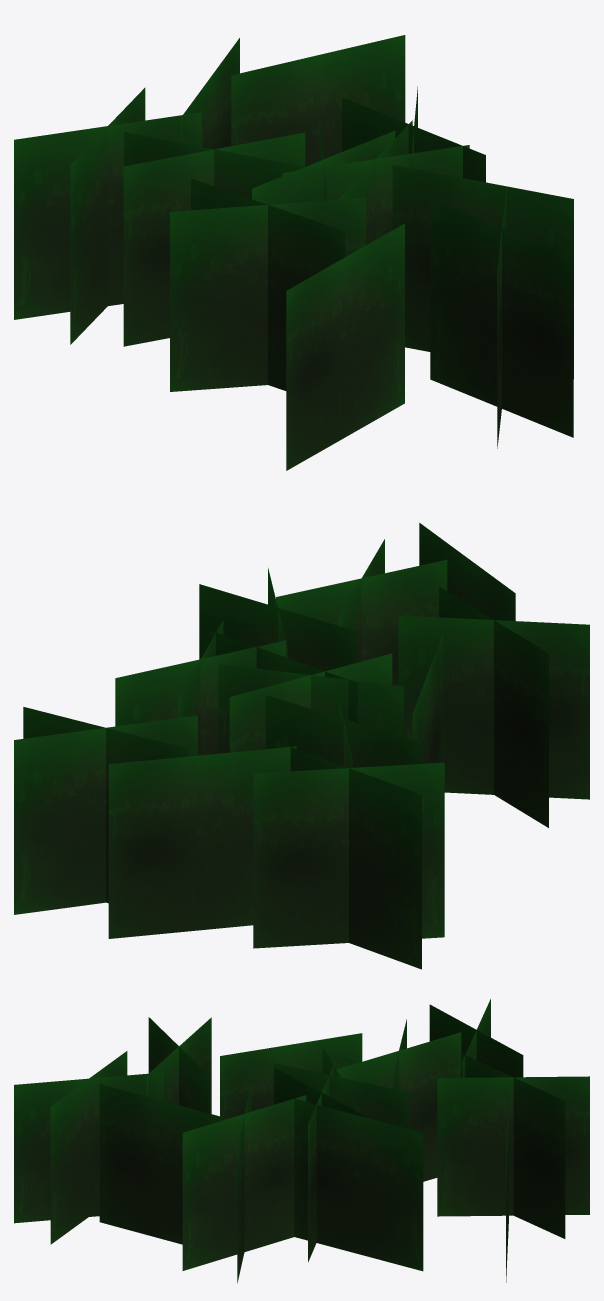
The model's file is reeds.glb.
3 views of the same model, one above another, from view 1: azimuth 30°, elevation 25°; view 2: azimuth 150°, elevation 25°; view 3: azimuth 270°, elevation 25° (orthographic). The views are drawn at different scales.
Parts seen in each view (by area): view 1: Juncos001; view 2: Juncos001; view 3: Juncos001.
Part boxes in pixels (bbox=[...]): Juncos001: bbox=[14, 35, 573, 470]; Juncos001: bbox=[14, 523, 589, 969]; Juncos001: bbox=[14, 999, 589, 1283].
Bounding box in the file's own units: 3.84 × 1.65 × 6.21.
Materials: 1 (1 with a texture image).
